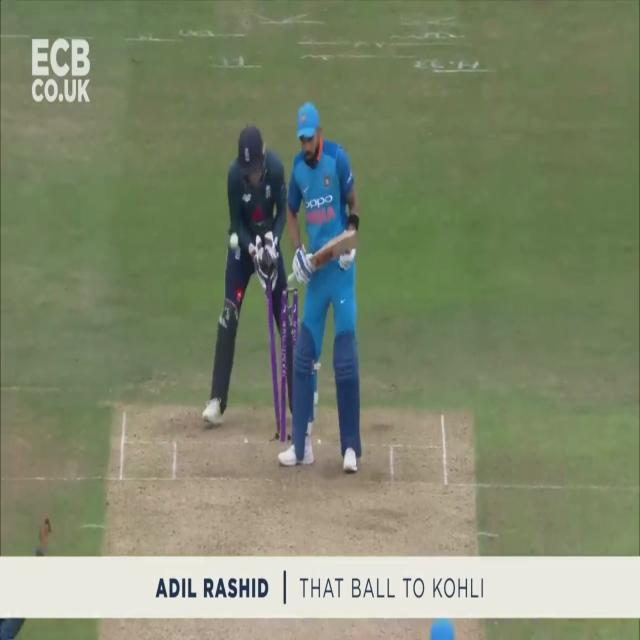cricketBall: (231, 234, 238, 249)
